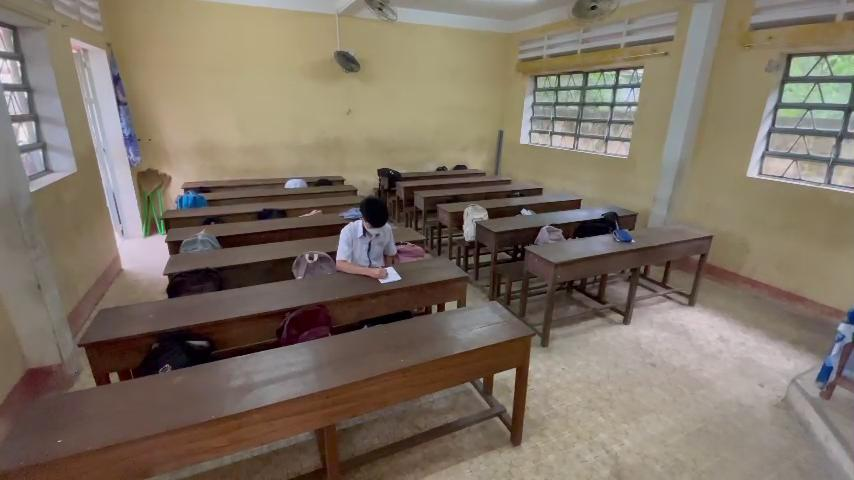Hand Under Table: (381, 227, 397, 266)
